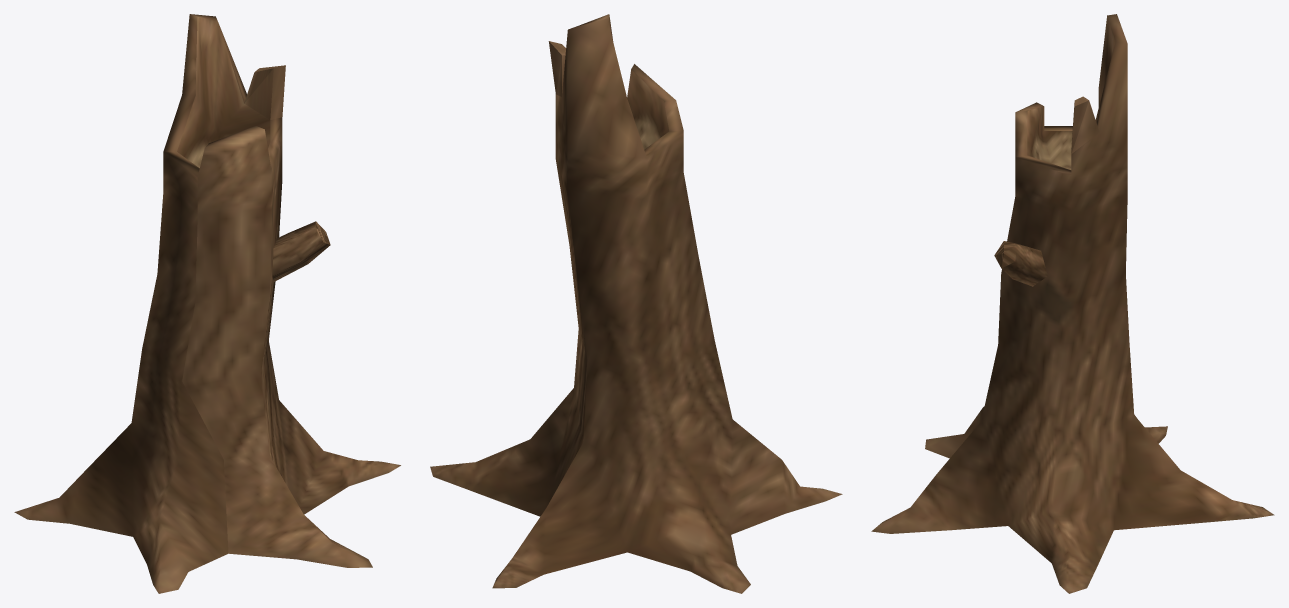
File: e_tree_4.FBX
The picture shows the model from 3 angles, left to right: view 1: azimuth 30°, elevation 25°; view 2: azimuth 150°, elevation 25°; view 3: azimuth 270°, elevation 25°; orthographic projection. The views are drawn at different scales.
Visible parts, largest first — view 1: Object014; view 2: Object014; view 3: Object014.
Part boxes in pixels (x1,y1,x2,y2): Object014: (14, 14, 400, 593); Object014: (430, 14, 842, 593); Object014: (871, 14, 1274, 593).
Bounding box in the file's own units: 65.98 × 67.15 × 89.48.
